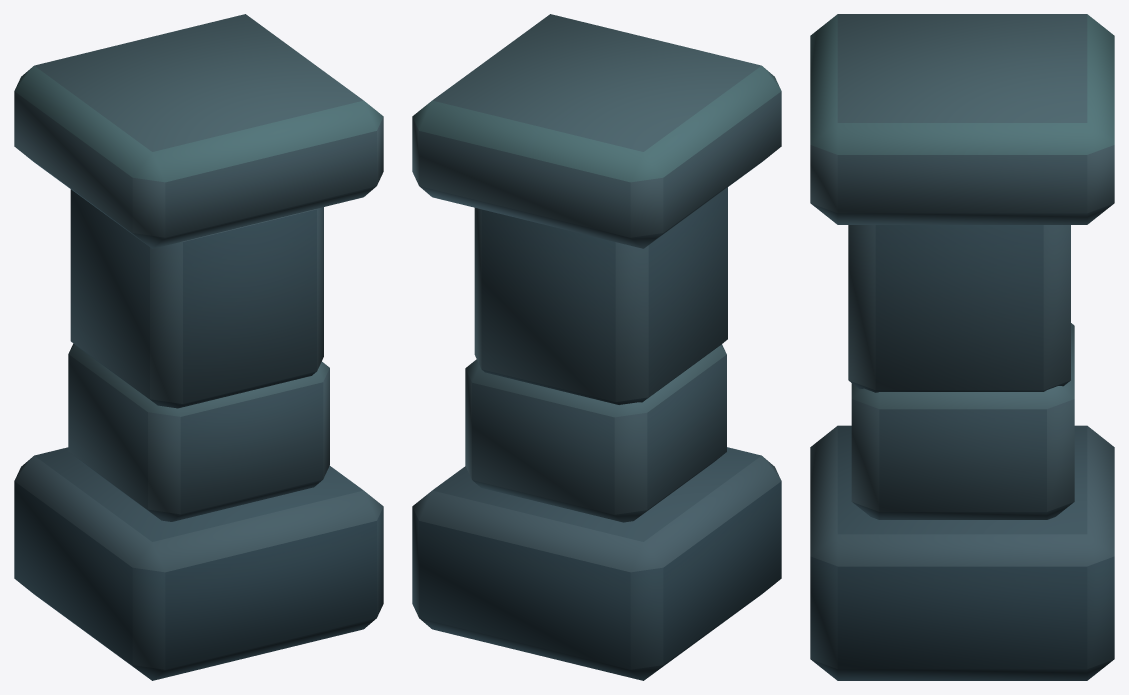
File: fence_pillar_1.fbx
3 renders of one model, left to right at view 1: azimuth 30°, elevation 25°; view 2: azimuth 150°, elevation 25°; view 3: azimuth 270°, elevation 25°, orthographic. The views are drawn at different scales.
Visible parts, largest first — view 1: fence_pillar_1; view 2: fence_pillar_1; view 3: fence_pillar_1.
Part boxes in pixels (box(x1,y1,x2,y2)): fence_pillar_1: box(14, 14, 383, 680); fence_pillar_1: box(412, 14, 781, 680); fence_pillar_1: box(810, 14, 1114, 680).
Bounding box in the file's own units: 76.02 × 153 × 75.69.
